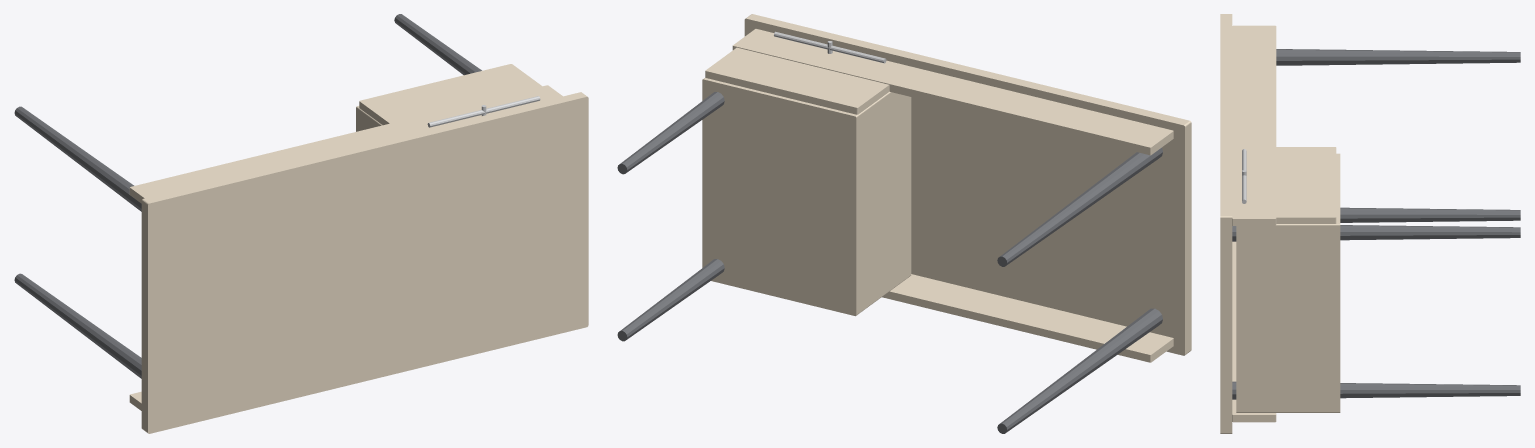
File: desk.glb
3 views of the same model, side by side, from view 1: azimuth 30°, elevation 25°; view 2: azimuth 150°, elevation 25°; view 3: azimuth 270°, elevation 25° (orthographic). The views are drawn at different scales.
Visible parts, largest first — view 1: top, apron_2, drawer_0, leg, leg_4, leg_6, handle_d0; view 2: top, drawer_box, apron_2, apron, drawer_0, leg, leg_4, leg_5, leg_6, handle_d0; view 3: drawer_box, apron_2, top, drawer_0, leg_4, leg_5, leg_6, leg, apron.
Part boxes in pixels (x1,y1,x2,y2): top: (141, 92, 588, 433); apron_2: (129, 85, 562, 203); drawer_0: (359, 64, 541, 125); leg: (14, 273, 141, 378); leg_4: (14, 106, 141, 211); leg_6: (394, 14, 481, 75); handle_d0: (427, 96, 540, 127); top: (744, 14, 1191, 355); drawer_box: (702, 77, 911, 316); apron_2: (732, 29, 1173, 155); apron: (882, 274, 1173, 362); drawer_0: (705, 47, 889, 114); leg: (997, 308, 1162, 433); leg_4: (997, 147, 1162, 266); leg_5: (617, 259, 724, 341); leg_6: (617, 92, 724, 174); handle_d0: (774, 31, 886, 63); drawer_box: (1236, 153, 1340, 412); apron_2: (1232, 25, 1276, 225); top: (1220, 14, 1232, 433); drawer_0: (1276, 147, 1336, 223); leg_4: (1276, 49, 1520, 65); leg_5: (1232, 381, 1520, 399); leg_6: (1232, 225, 1520, 241); leg: (1340, 207, 1520, 222); apron: (1232, 241, 1276, 422).
Size of the model in its own units: 1.2 by 0.609 by 0.75.
